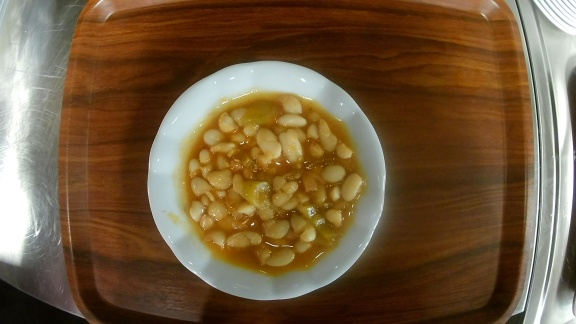kurufasulye: (147, 59, 387, 301)
